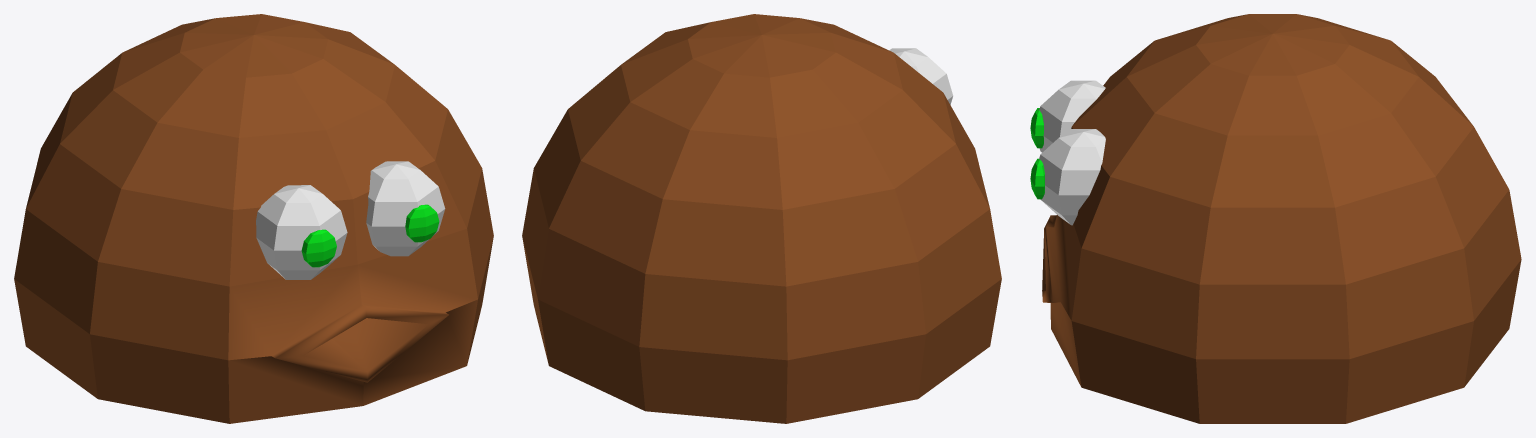
Rendered from SlimeConBoca.fbx.
The picture shows the model from 3 angles, left to right: view 1: azimuth 30°, elevation 25°; view 2: azimuth 150°, elevation 25°; view 3: azimuth 270°, elevation 25°; orthographic projection.
Parts seen in each view (by area): view 1: Cuerpo, Ojo R, Ojo L, Iris R, Iris L; view 2: Cuerpo, Ojo R; view 3: Cuerpo, Ojo L, Ojo R, Iris L.
Part boxes in pixels (x1,y1,x2,y2): Cuerpo: (14,14,493,423); Ojo R: (256,185,347,279); Ojo L: (366,161,445,256); Iris R: (301,229,336,267); Iris L: (405,204,439,242); Cuerpo: (522,14,1001,423); Ojo R: (889,48,953,104); Cuerpo: (1042,14,1521,423); Ojo L: (1039,129,1105,225); Ojo R: (1039,80,1105,152); Iris L: (1030,158,1044,199).
Bounding box in the file's own units: 190 × 131 × 197.
